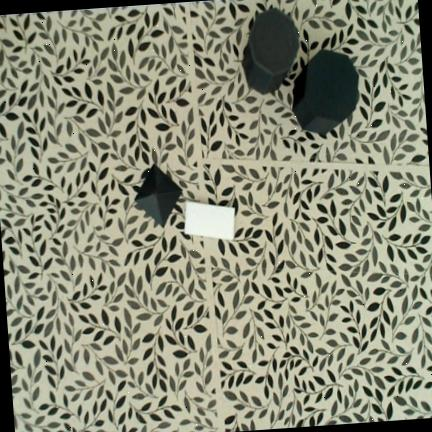Paralelepipedo: (184, 200, 235, 239)
Piramide: (134, 163, 182, 227)
Prisma_hexagonal: (293, 49, 359, 133), (243, 9, 299, 95)
